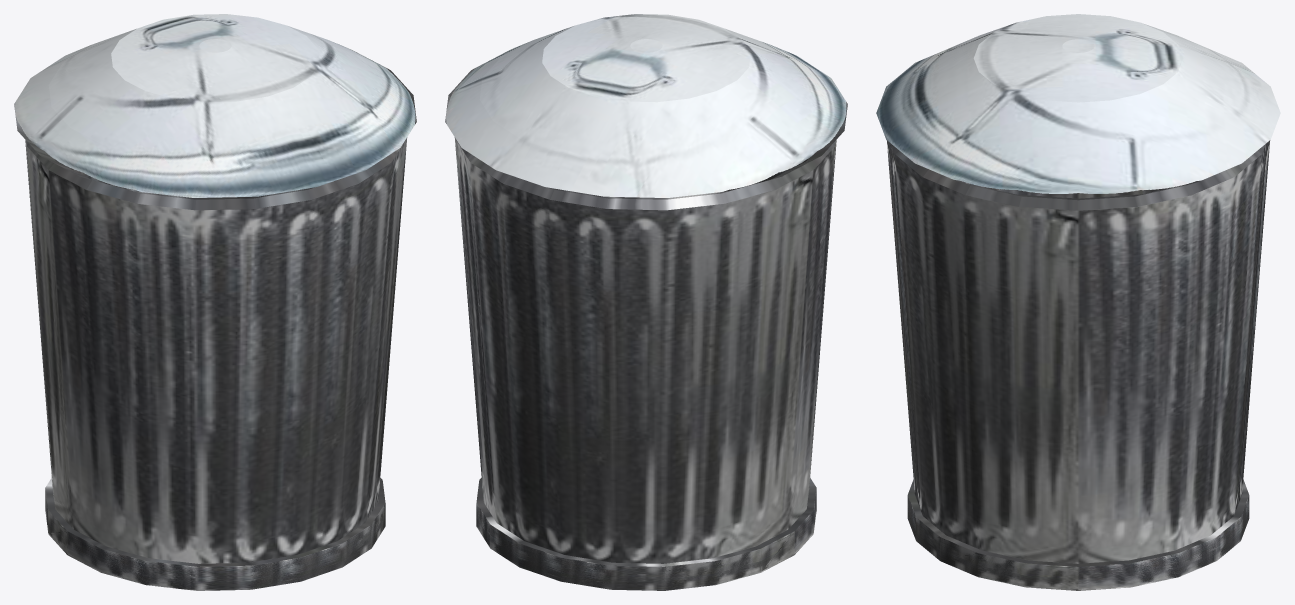
Rendered from trashcan_model.fbx.
3 views of the same model, side by side, from view 1: azimuth 30°, elevation 25°; view 2: azimuth 150°, elevation 25°; view 3: azimuth 270°, elevation 25° (orthographic).
Visible parts, largest first — view 1: pCylinder5; view 2: pCylinder5; view 3: pCylinder5.
Boxes of the visible parts, box(x1,y1,x2,y2) form: pCylinder5: box(14, 14, 416, 590); pCylinder5: box(445, 14, 847, 590); pCylinder5: box(876, 14, 1280, 590).
Size of the model in its own units: 0.1281 by 0.1651 by 0.1281.
